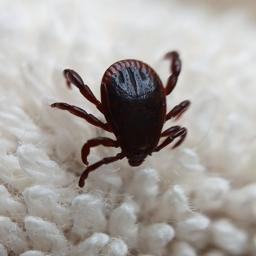Rhipicephalus sanguineus: (49, 51, 190, 190)
